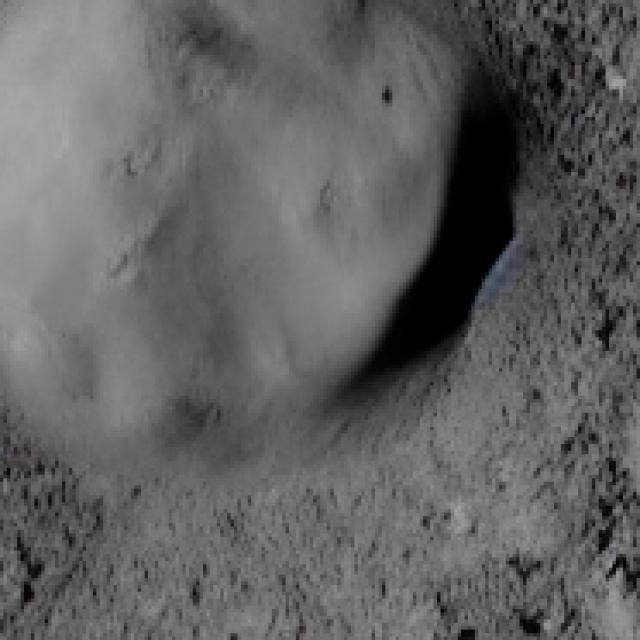Crater: (0, 0, 561, 523)
